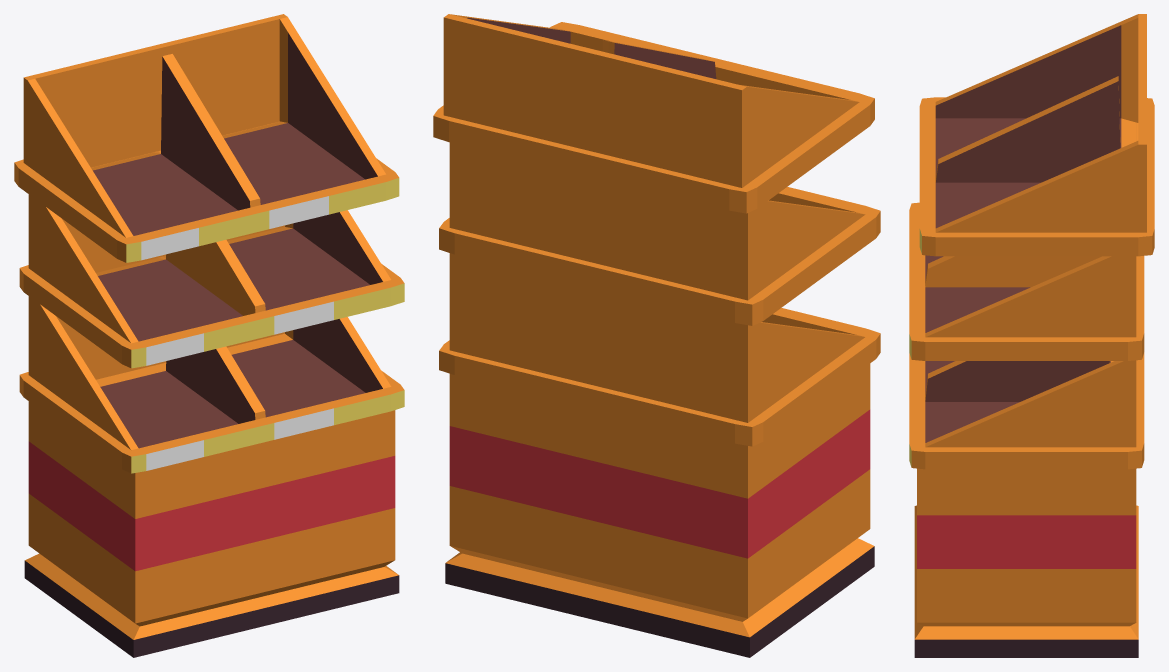
The model's file is SausageCartoon.fbx.
The picture shows the model from 3 angles, left to right: view 1: azimuth 30°, elevation 25°; view 2: azimuth 150°, elevation 25°; view 3: azimuth 270°, elevation 25°; orthographic projection. The views are drawn at different scales.
Parts seen in each view (by area): view 1: Cube.008; view 2: Cube.008; view 3: Cube.008.
Part boxes in pixels (x1,y1,x2,y2): Cube.008: (14,14,404,657); Cube.008: (433,14,880,657); Cube.008: (909,14,1154,657).
Size of the model in its own units: 2636 by 4504 by 1954.
